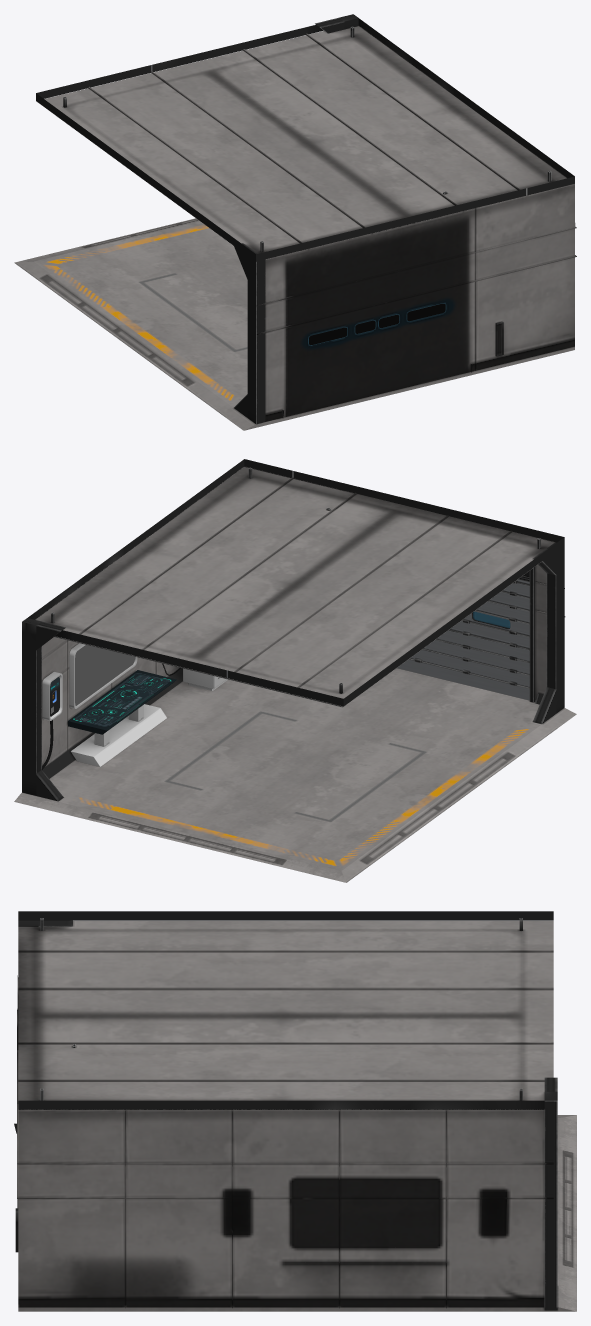
File: GARAJ1.glb
The picture shows the model from 3 angles, top to bottom: view 1: azimuth 30°, elevation 25°; view 2: azimuth 150°, elevation 25°; view 3: azimuth 270°, elevation 25°; orthographic projection. The views are drawn at different scales.
Parts seen in each view (by area): view 1: scifigarage_0; view 2: scifigarage_0; view 3: scifigarage_0.
Part boxes in pixels (box(x1,y1,x2,y2)): scifigarage_0: box(14, 14, 576, 430); scifigarage_0: box(14, 459, 576, 882); scifigarage_0: box(14, 911, 576, 1311).
Size of the model in its own units: 6.28 by 3.16 by 7.57.
1 material, 1 textured.
